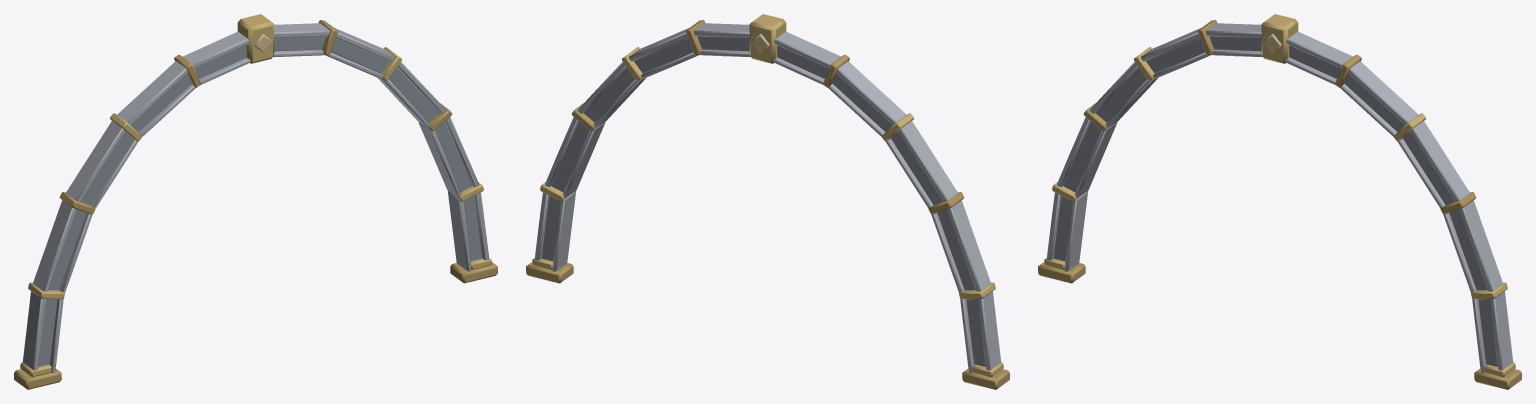
Rendered from vault_rib.glb.
3 renders of one model, left to right at view 1: azimuth 30°, elevation 25°; view 2: azimuth 150°, elevation 25°; view 3: azimuth 330°, elevation 25°, orthographic.
Visible parts, largest first — view 1: vault_rib; view 2: vault_rib; view 3: vault_rib.
Boxes of the visible parts, x1,y1,x2,y2 form: vault_rib: [14, 14, 497, 389]; vault_rib: [526, 14, 1009, 389]; vault_rib: [1038, 14, 1521, 389].
Size of the model in its own units: 58 by 36.27 by 3.4.
